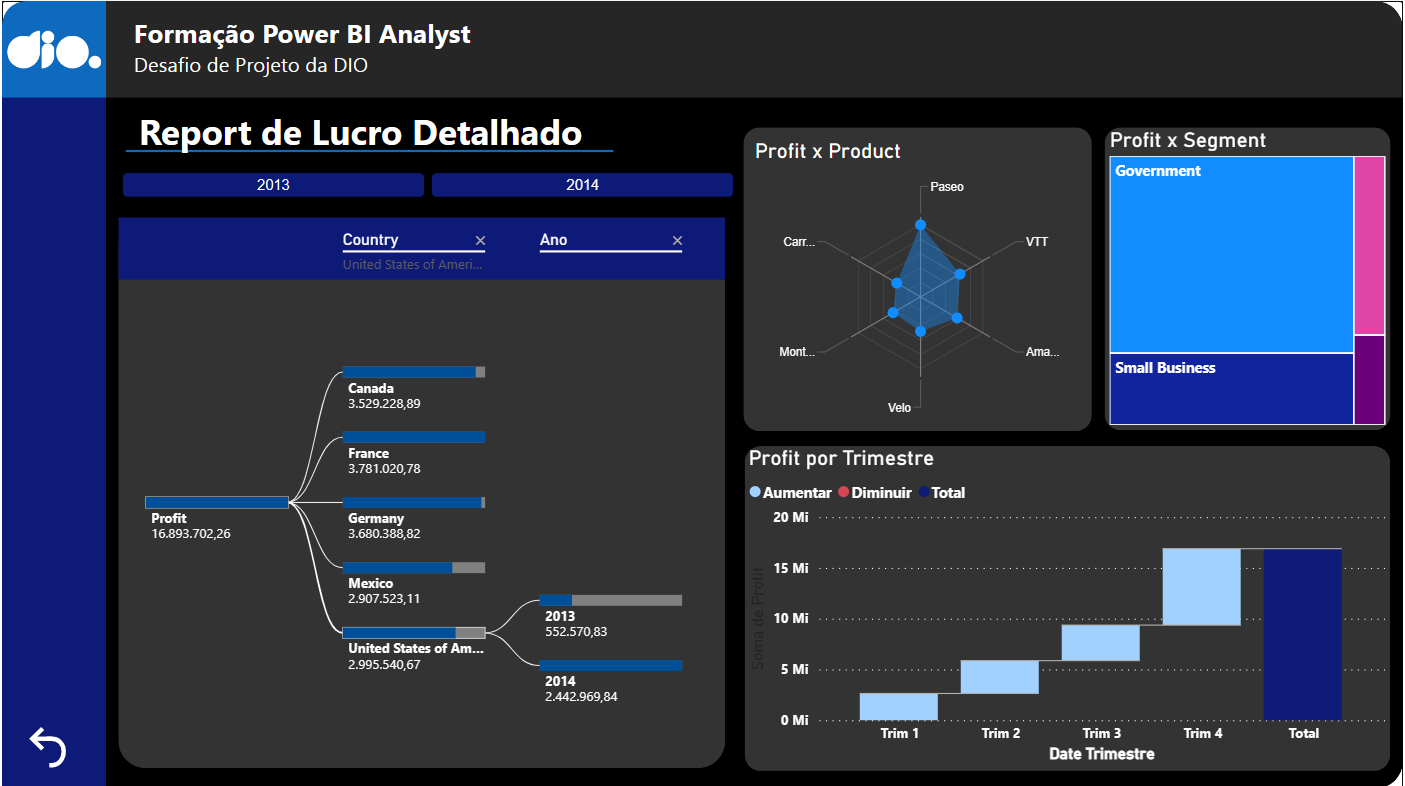

The page's visual inventory and layout, read from the dashboard file:
{"tool":"powerbi","page":{"name":"Lucro detalhado","canvas":[1280,720],"ordinal":1},"visuals":[{"type":"group","id":"g1","title":"BG","box":[0,0,1280.6,719.8],"z":0},{"type":"shape","title":"Background","box":[9.6,0,1271,719.8],"z":0,"group":"g1"},{"type":"shape","title":"bg-Título","box":[95.2,0,1185.1,88.4],"z":0,"group":"g2"},{"type":"shape","title":"BG Profit x Product","box":[677.5,115,318.8,277.8],"z":0,"group":"g5"},{"type":"shape","title":"BG Profit x Segment","box":[1007.1,115.7,261.4,277.1],"z":0,"group":"g6"},{"type":"shape","box":[113.1,120.2,445.7,34.3],"z":0,"group":"g3"},{"type":"shape","title":"BG Arvore","box":[106.4,198.7,554.8,502.4],"z":0,"group":"g4"},{"type":"shape","title":"BG Profit por Trimestre","box":[678.5,407.1,590,297.1],"z":0,"group":"g7"},{"type":"shape","title":"Barra esquerda","box":[0,0,95.2,719.2],"z":1000,"group":"g1"},{"type":"group","id":"g2","title":"Título","box":[95.2,0,1185.1,88.4],"z":1000},{"type":"textbox","title":"Título","box":[115.5,8.5,607,71.4],"z":1000,"group":"g2"},{"type":"textbox","box":[119.7,92.9,440.3,67.1],"z":1000,"group":"g3"},{"type":"treemap","title":"Profit x Segment","fields":{"Values":["Sum(financials.Profit)"],"Group":["financials.Segment"]},"box":[1007.1,115.7,261.4,277.1],"z":1000,"group":"g6"},{"type":"RadarChart1446119667547","title":"Profit x Product","fields":{"Y":["Sum(financials.Profit)"],"Category":["financials.Product"]},"box":[683,125.6,313,268.1],"z":1000,"group":"g5"},{"type":"decompositionTreeVisual","fields":{"Analyze":["Sum(financials.Profit)"],"ExplainBy":["financials.Country","financials.Date.Variation.Hierarquia de datas.Ano"]},"box":[101.4,192.9,564.3,508.6],"z":1000,"group":"g4"},{"type":"waterfallChart","title":"Profit por Trimestre","fields":{"Category":["financials.Date.Variation.Hierarquia de datas.Trimestre"],"Y":["Sum(financials.Profit)"]},"box":[677.1,407.1,591.4,294.3],"z":1000,"group":"g7"},{"type":"shape","title":"logo-bg","box":[0,0,95.2,88.4],"z":2000,"group":"g1"},{"type":"group","id":"g3","title":"Subtitulo","box":[113.1,92.9,446.9,67.1],"z":2000},{"type":"image","title":"logo","box":[0,0,95.2,88.4],"z":3000,"group":"g1"},{"type":"ChicletSlicer1448559807354","title":"Segmentação","fields":{"Category":["financials.Date.Variation.Hierarquia de datas.Ano"]},"box":[101.4,148.6,575.7,48.6],"z":3000},{"type":"group","id":"g4","title":"Árvore Hierárquica","box":[101.4,192.9,564.3,508.6],"z":4000},{"type":"actionButton","title":"Voltar","box":[18.8,657.5,56.2,47.5],"z":4000,"group":"g1"},{"type":"group","id":"g5","title":"Profit x Product","box":[677.5,115,318.8,278.8],"z":5000},{"type":"group","id":"g6","title":"Profit X Segment","box":[1007.1,115.7,261.4,277.1],"z":6000},{"type":"group","id":"g7","title":"Profit Por Trimestre","box":[677.1,407.1,591.4,297.1],"z":7000}]}

Visuals, with their boxes in screenshot pixels (x1, y1, x2, y2), scaled from the page's 1280x720 canvas onto the 1405x786 screenshot:
"BG" group: <box>0,0,1404,785</box>
"Background" shape: <box>11,0,1404,785</box>
"bg-Título" shape: <box>104,0,1404,97</box>
"BG Profit x Product" shape: <box>744,126,1094,429</box>
"BG Profit x Segment" shape: <box>1105,126,1392,429</box>
shape: <box>124,131,613,169</box>
"BG Arvore" shape: <box>117,217,726,765</box>
"BG Profit por Trimestre" shape: <box>745,444,1392,769</box>
"Barra esquerda" shape: <box>0,0,104,785</box>
"Título" group: <box>104,0,1404,97</box>
"Título" textbox: <box>127,9,793,87</box>
textbox: <box>131,101,615,175</box>
"Profit x Segment" treemap: <box>1105,126,1392,429</box>
"Profit x Product" RadarChart1446119667547: <box>750,137,1093,430</box>
decompositionTreeVisual - Sum(financials.Profit) x financials.Country: <box>111,211,731,766</box>
"Profit por Trimestre" waterfallChart: <box>743,444,1392,766</box>
"logo-bg" shape: <box>0,0,104,97</box>
"Subtitulo" group: <box>124,101,615,175</box>
"logo" image: <box>0,0,104,97</box>
"Segmentação" ChicletSlicer1448559807354: <box>111,162,743,215</box>
"Árvore Hierárquica" group: <box>111,211,731,766</box>
"Voltar" actionButton: <box>21,718,82,770</box>
"Profit x Product" group: <box>744,126,1094,430</box>
"Profit X Segment" group: <box>1105,126,1392,429</box>
"Profit Por Trimestre" group: <box>743,444,1392,769</box>
